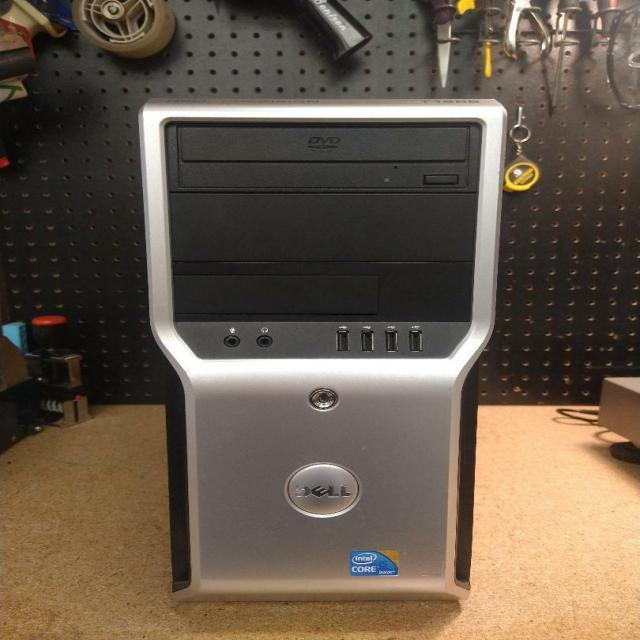Desktop-PC: (126, 92, 528, 612)
